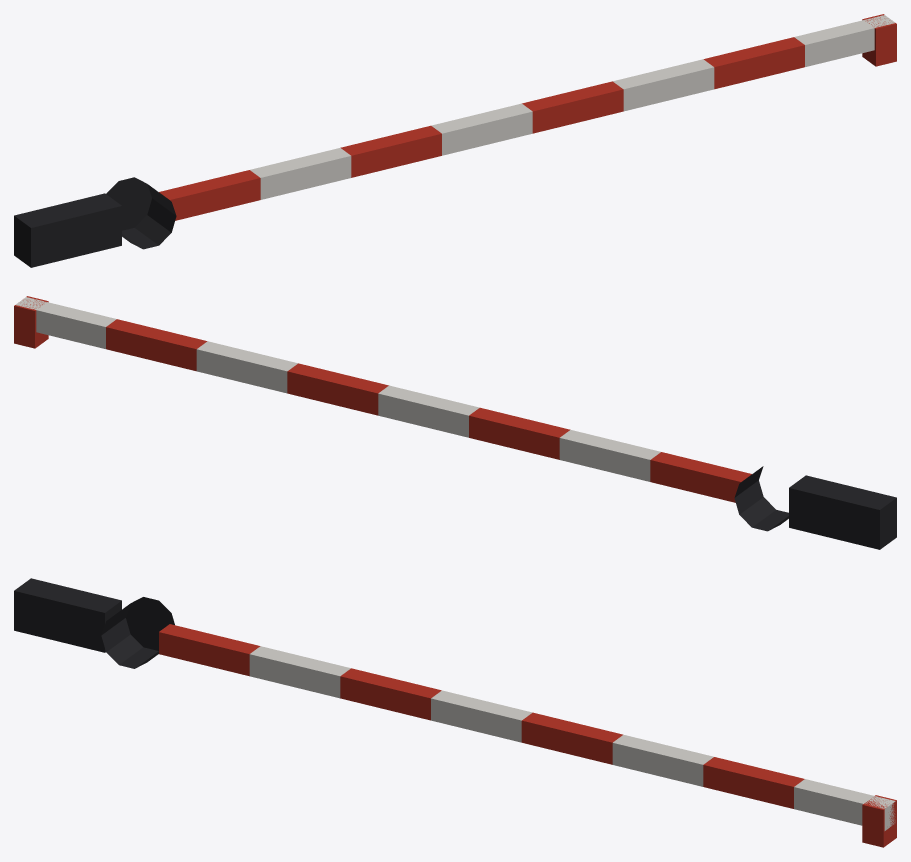
File: ns_airtoll_arm.glb
The picture shows the model from 3 angles, top to bottom: view 1: azimuth 30°, elevation 25°; view 2: azimuth 150°, elevation 25°; view 3: azimuth 330°, elevation 25°; orthographic projection.
Visible parts, largest first — view 1: ns_airtoll_arm; view 2: ns_airtoll_arm; view 3: ns_airtoll_arm.
Boxes of the visible parts, bbox=[...] form: ns_airtoll_arm: bbox=[14, 14, 896, 267]; ns_airtoll_arm: bbox=[14, 296, 896, 549]; ns_airtoll_arm: bbox=[14, 578, 896, 847].
Bounding box in the file's own units: 4.1 × 0.2341 × 0.2.
